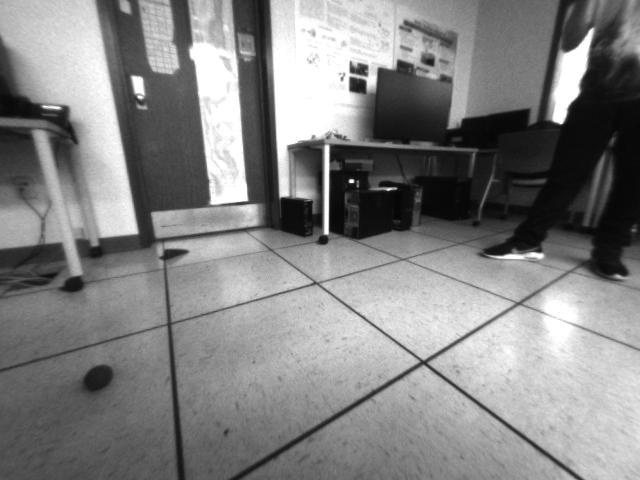dogtoy: (79, 359, 119, 395)
